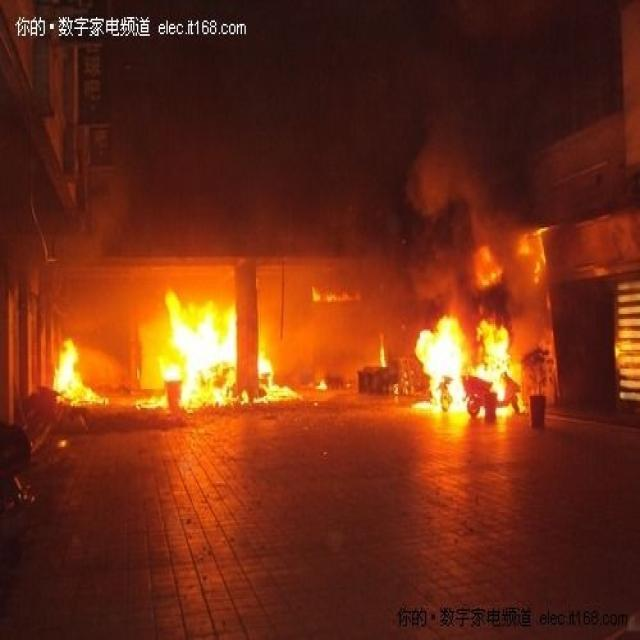Fire: (130, 292, 304, 412), (412, 316, 526, 418), (52, 340, 112, 410), (518, 226, 552, 284), (474, 248, 504, 288), (378, 332, 388, 368)
Smoke: (266, 133, 557, 376), (51, 159, 132, 391)
